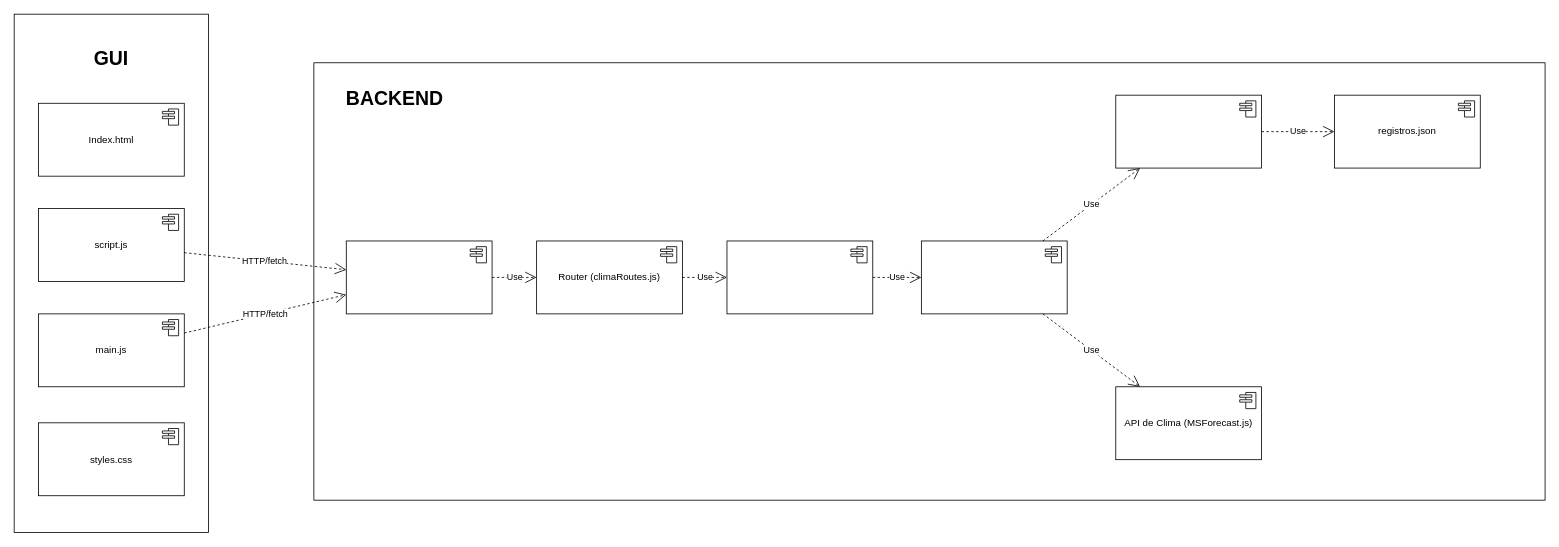
Image size: 1559x547. Some labels were removed from this diagram. Each missing label, with the centre of its shape:
app.js: pixel 418 277
Controlador (ClimaController.js): pixel 799 277
Modelo de Persistencia (ClimaModel.js): pixel 1188 131
Servicio (ClimaService.js): pixel 994 277
